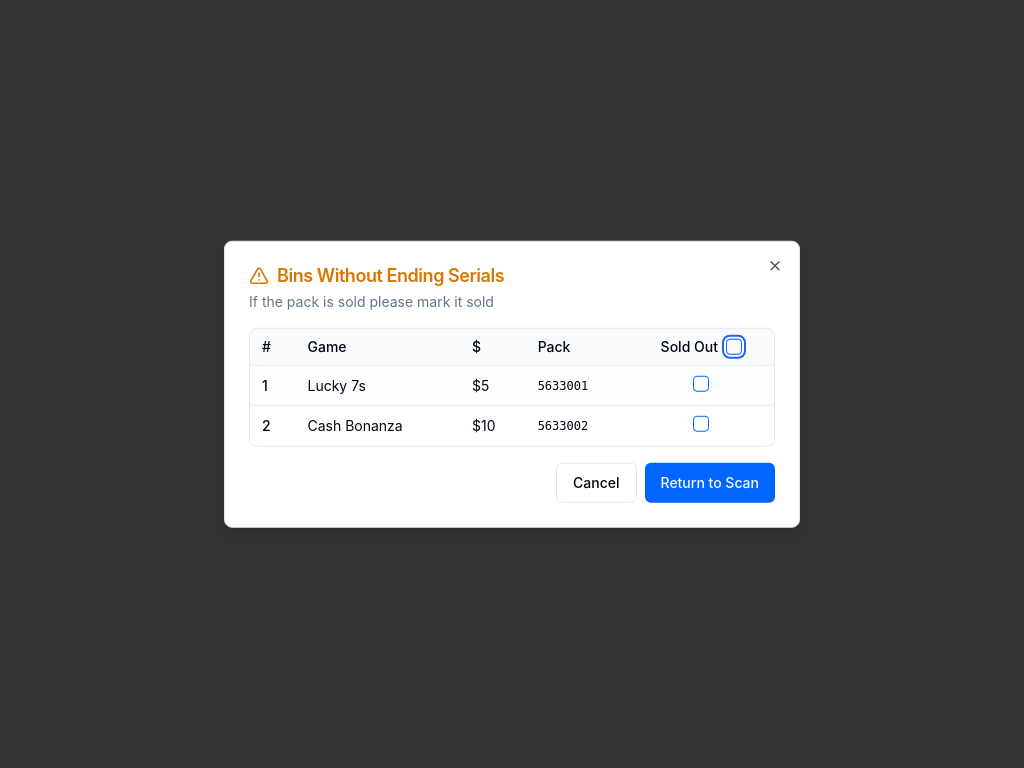
it: UnscannedBinWarningModal › Select All Functionality › should deselect all bins when Select All is clicked twice
The image size is (1024, 768).
# Click Select All twice
Click the checkbox with test id "select-all-sold-out" at (734, 347), box x1=726 y1=339 x2=742 y2=355
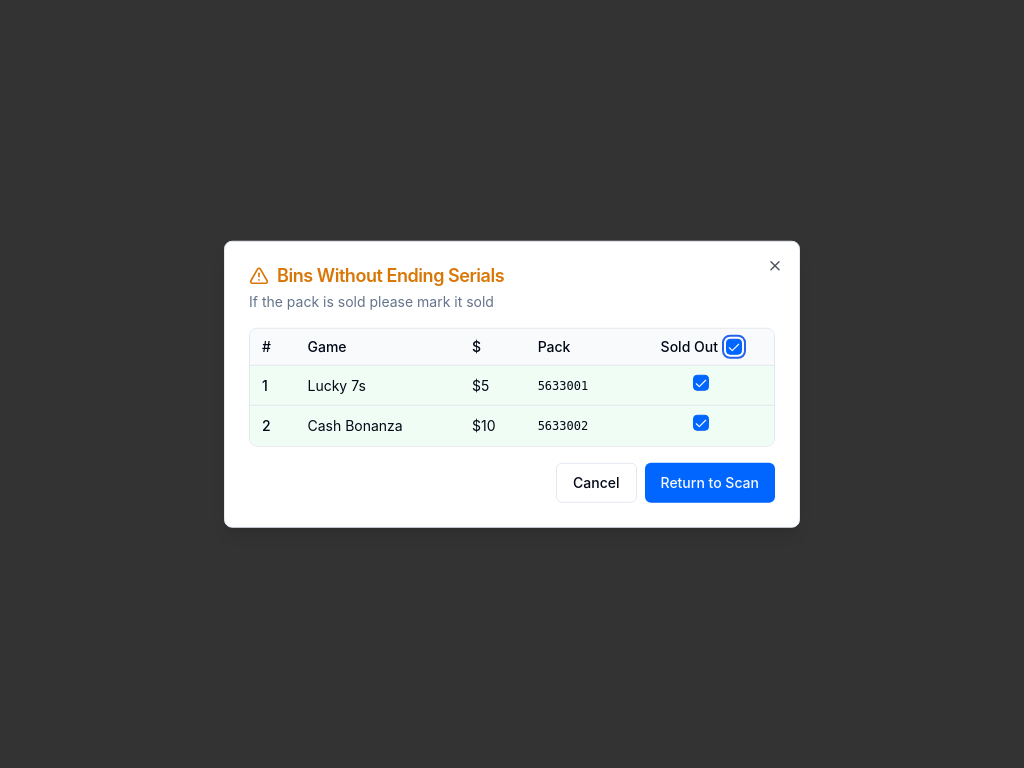
Click the checkbox with test id "select-all-sold-out" at (734, 347), box x1=726 y1=339 x2=742 y2=355
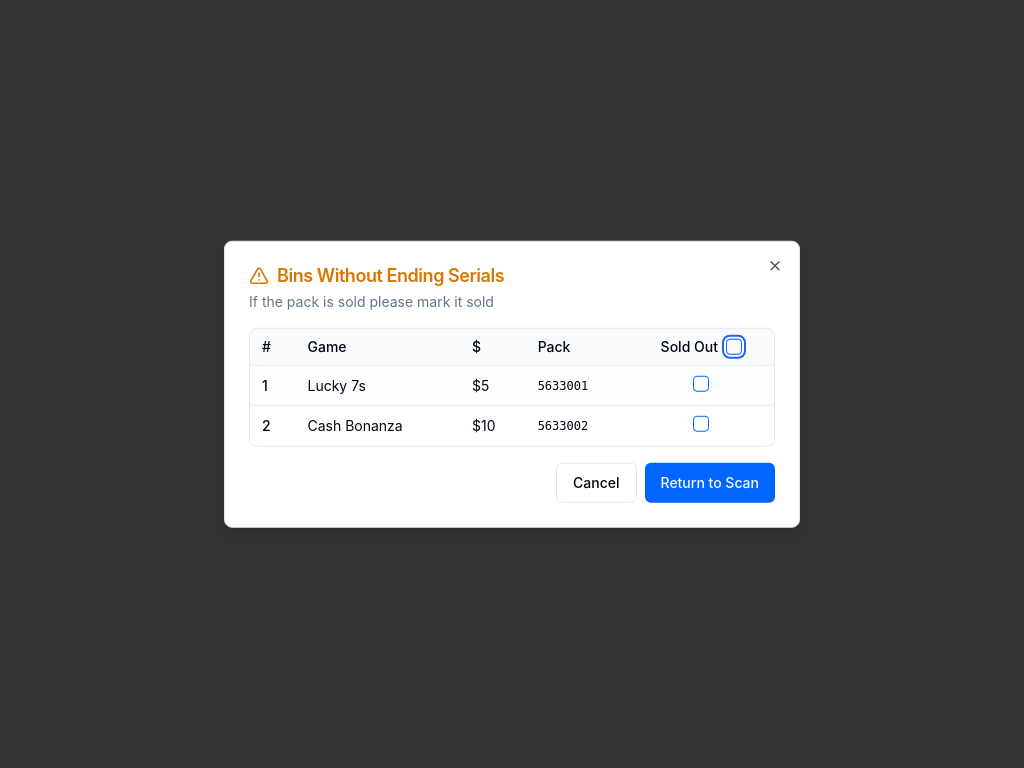
Expected: the checkbox with test id "bin-sold-out-bin-1" is not checked, x1=693 y1=375 x2=709 y2=391
Expected: the checkbox with test id "bin-sold-out-bin-2" is not checked, x1=693 y1=416 x2=709 y2=432
